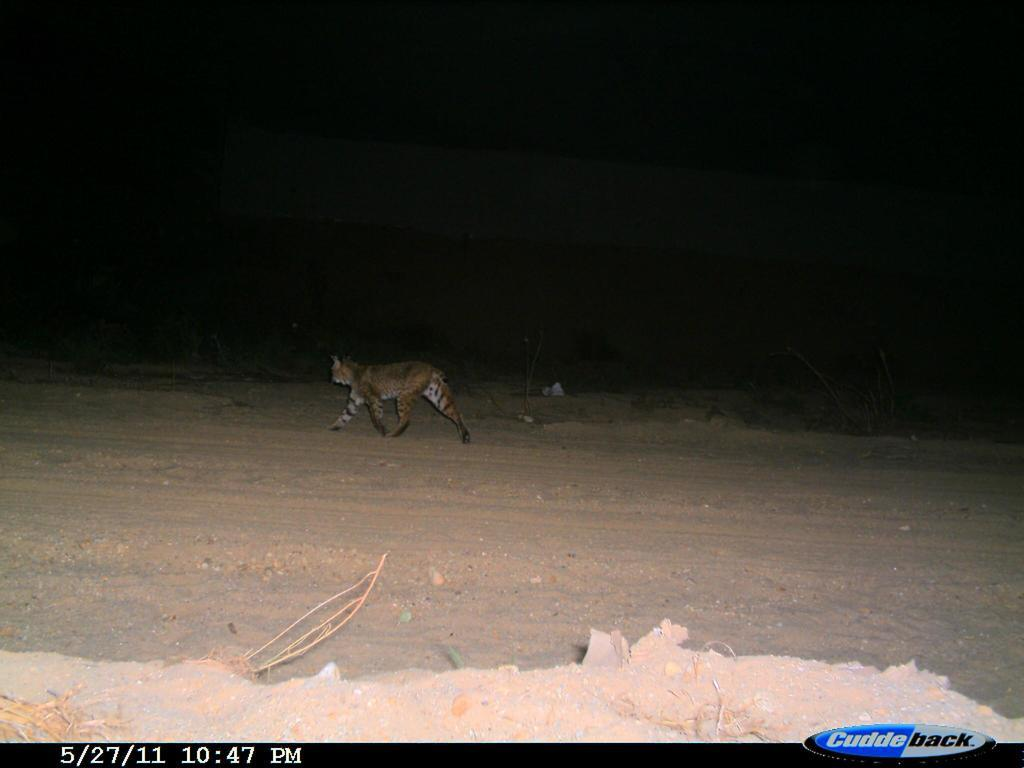bobcat: (318, 337, 479, 451)
